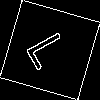L: (25, 25, 79, 72)
